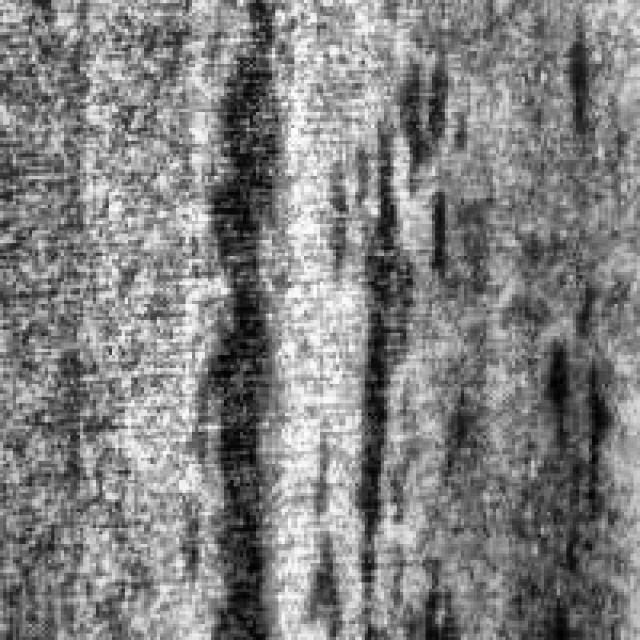Patches: (170, 13, 292, 624), (323, 83, 451, 627), (397, 48, 461, 275), (544, 320, 614, 522), (547, 19, 605, 131)
